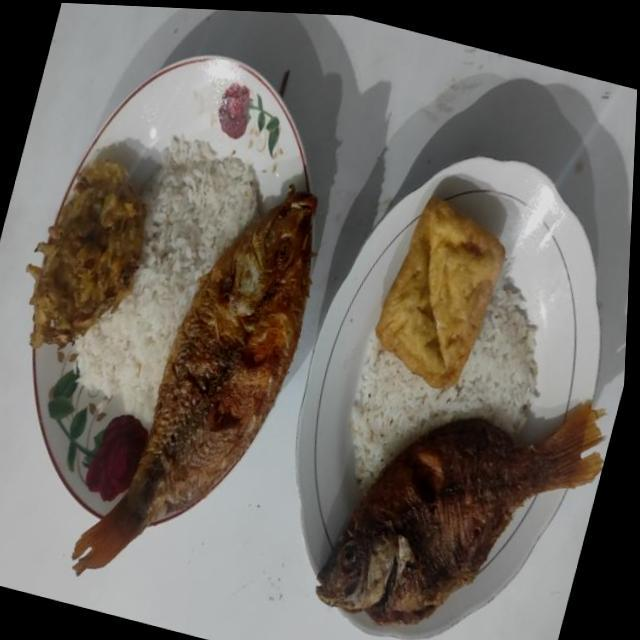ikan_mujair: (73, 187, 316, 574), (316, 402, 602, 624)
nasi_putih: (74, 137, 257, 423), (350, 277, 538, 484)
tahu_goreng: (376, 198, 504, 388)
